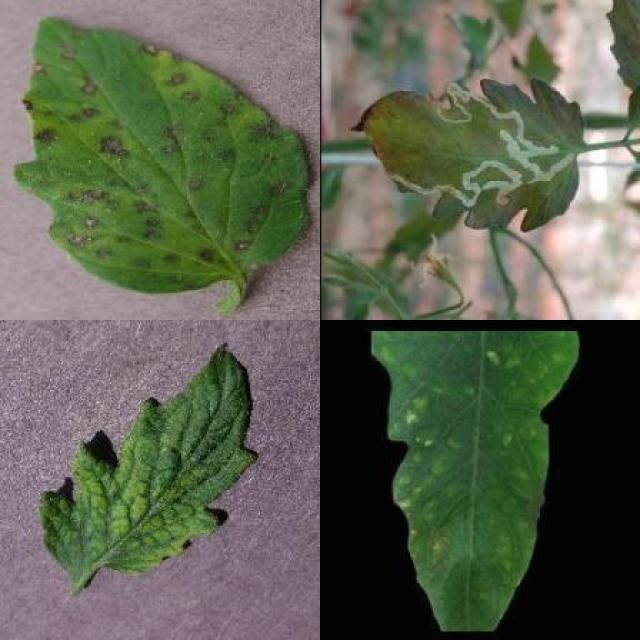Late Blight: (370, 329, 580, 632)
Leaf Miner: (346, 78, 588, 235)
Mosaic Virus: (40, 342, 257, 575)
Septoria: (18, 19, 312, 294)
